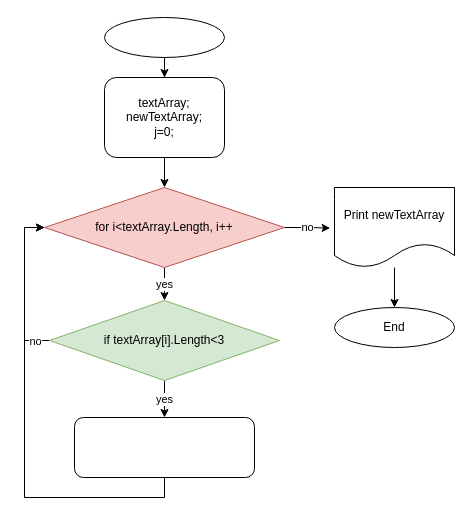
Image size: 472x523. Some labels were removed from this diagram. The shapes that lost their labels are listed below. From the top down, each one's centre as x and y in pixels, then its label:
At (x=164, y=37): "Start".
At (x=164, y=447): "newTextArray[j]=textArray[i]; j++;".
